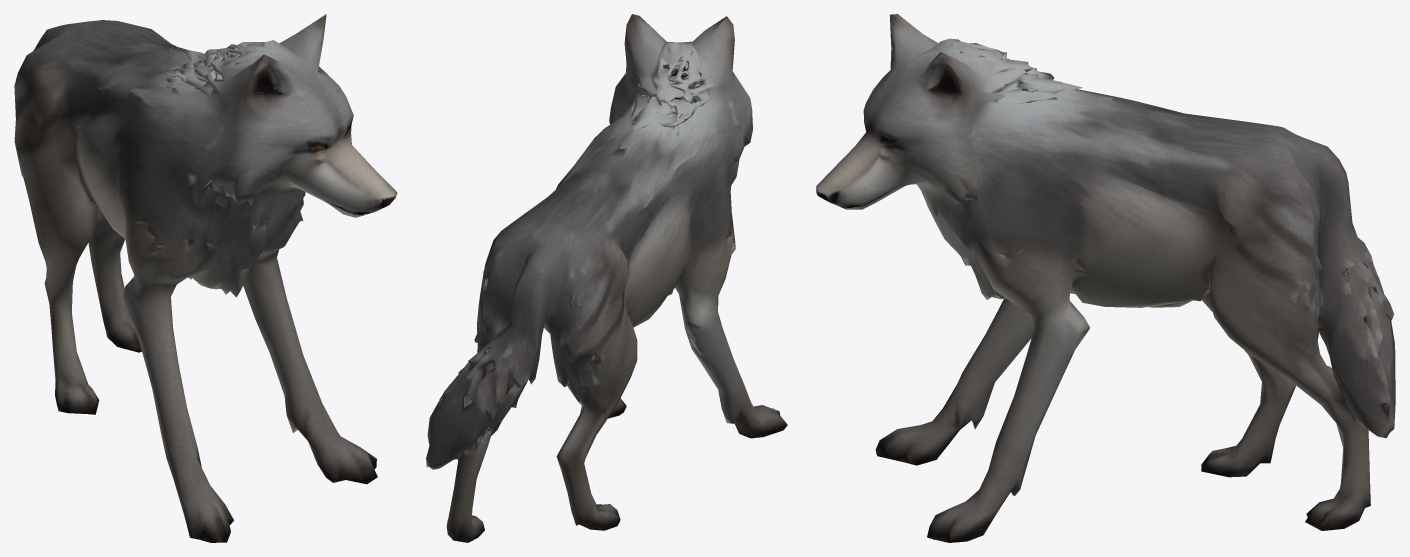
Rendered from wolf.glb.
3 renders of one model, left to right at view 1: azimuth 30°, elevation 25°; view 2: azimuth 150°, elevation 25°; view 3: azimuth 270°, elevation 25°, orthographic. The views are drawn at different scales.
Parts seen in each view (by area): view 1: geometry_0; view 2: geometry_0; view 3: geometry_0.
Part boxes in pixels (x1=…): geometry_0: x1=14, y1=14, x2=397, y2=542; geometry_0: x1=426, y1=14, x2=787, y2=542; geometry_0: x1=816, y1=14, x2=1395, y2=542.
Size of the model in its own units: 0.417 by 0.8911 by 0.9975.
1 material, 1 textured.
